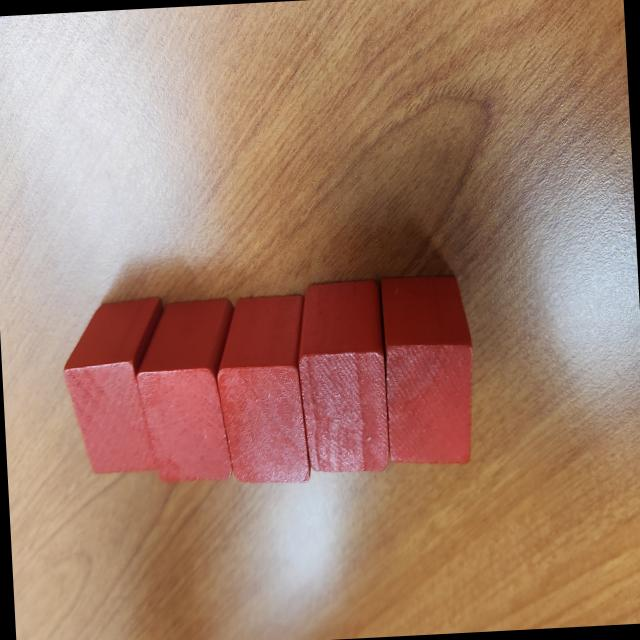red: (132, 298, 244, 486), (59, 296, 174, 477), (212, 293, 315, 487), (378, 273, 479, 470), (294, 278, 392, 476)
